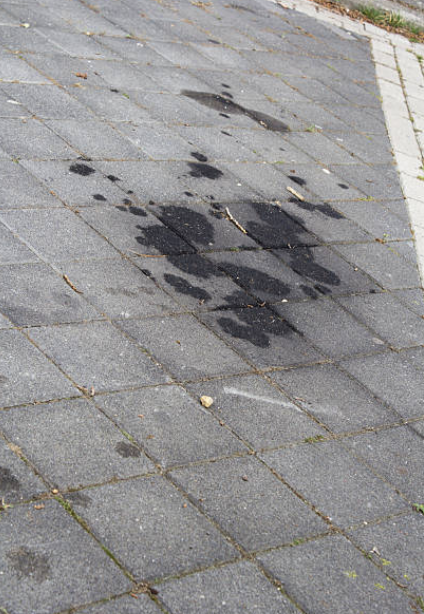oil: (34, 75, 175, 177), (88, 42, 145, 67)
